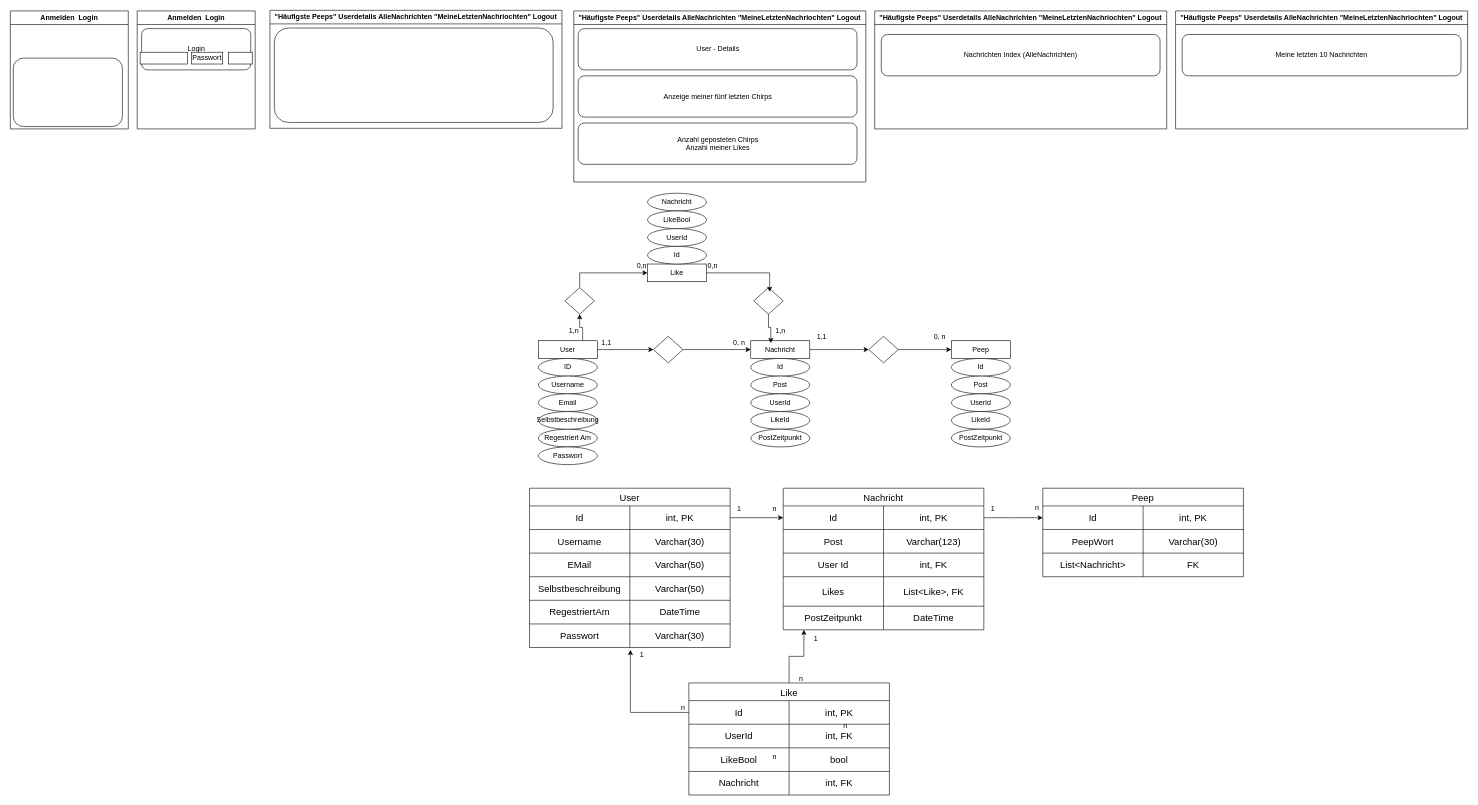
Image size: 1478x805. Some labels were removed from this diagram. Each missing label, with the box of its shape:
Benutzername: (140, 52, 187, 64)
Die letzten 5 Nachrichten für Anonyme Nutzer: (13, 58, 122, 127)
erhält: (753, 287, 783, 314)
gibt: (564, 287, 594, 314)
hat: (868, 336, 898, 363)
Meine 10 letzten NAchrichten: (274, 27, 553, 122)
schreibt: (653, 336, 683, 363)
Submit: (228, 52, 252, 64)
